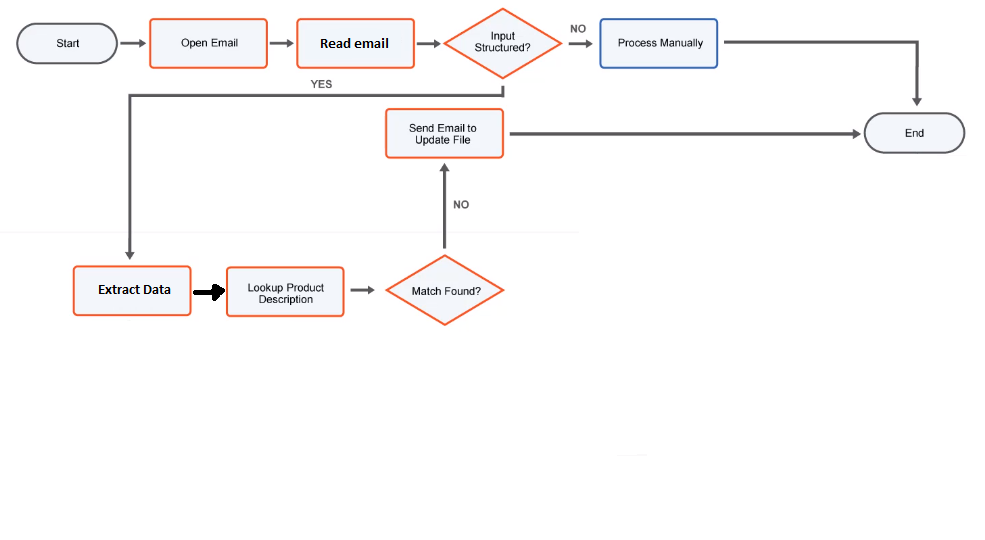arrow: (124, 82, 507, 261), (723, 36, 924, 109), (504, 128, 867, 140), (187, 283, 228, 301), (346, 282, 380, 298), (118, 37, 147, 51), (415, 37, 444, 51), (567, 38, 593, 53), (267, 36, 295, 49)
decision: (443, 6, 567, 81), (383, 254, 506, 329)
process: (69, 262, 195, 320), (382, 104, 507, 162), (223, 263, 350, 320), (146, 15, 272, 71), (293, 16, 418, 71), (597, 16, 721, 70)
terminator: (13, 21, 120, 67), (862, 110, 968, 156)
text: (241, 279, 334, 308), (406, 119, 483, 147), (471, 28, 533, 57), (613, 34, 705, 52), (317, 34, 391, 53), (94, 282, 174, 298), (410, 283, 483, 299), (179, 34, 242, 51), (900, 124, 930, 139), (54, 34, 80, 51), (449, 198, 474, 211), (308, 75, 333, 88), (569, 22, 587, 34)
